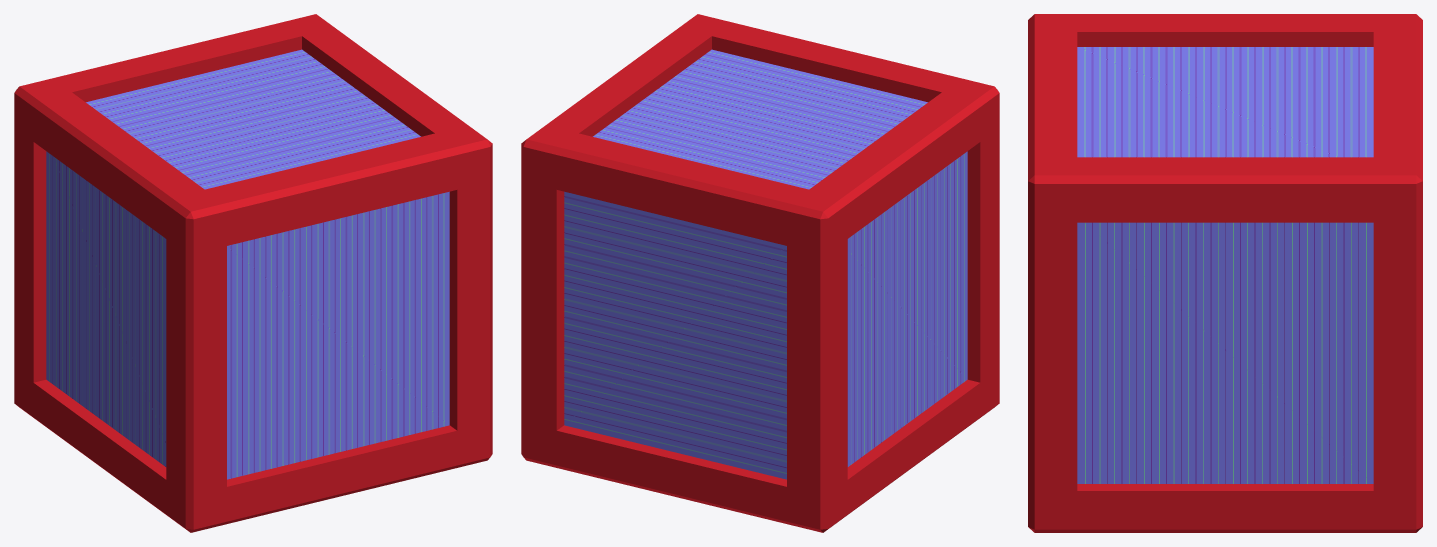
The model's file is WoodBlocks_Rd_00.FBX.
3 renders of one model, left to right at view 1: azimuth 30°, elevation 25°; view 2: azimuth 150°, elevation 25°; view 3: azimuth 270°, elevation 25°, orthographic. The views are drawn at different scales.
Visible parts, largest first — view 1: WoodBlocks_Rd_Rough_00, WoodBlocks_Rd_00; view 2: WoodBlocks_Rd_Rough_00, WoodBlocks_Rd_00; view 3: WoodBlocks_Rd_Rough_00, WoodBlocks_Rd_00.
Part boxes in pixels (x1=…): WoodBlocks_Rd_Rough_00: x1=46, y1=49, x2=449, y2=479; WoodBlocks_Rd_00: x1=14, y1=14, x2=492, y2=532; WoodBlocks_Rd_Rough_00: x1=564, y1=49, x2=967, y2=479; WoodBlocks_Rd_00: x1=521, y1=14, x2=999, y2=532; WoodBlocks_Rd_Rough_00: x1=1077, y1=47, x2=1373, y2=483; WoodBlocks_Rd_00: x1=1028, y1=14, x2=1422, y2=532.
Bounding box in the file's own units: 1.2 × 1.2 × 1.2.
